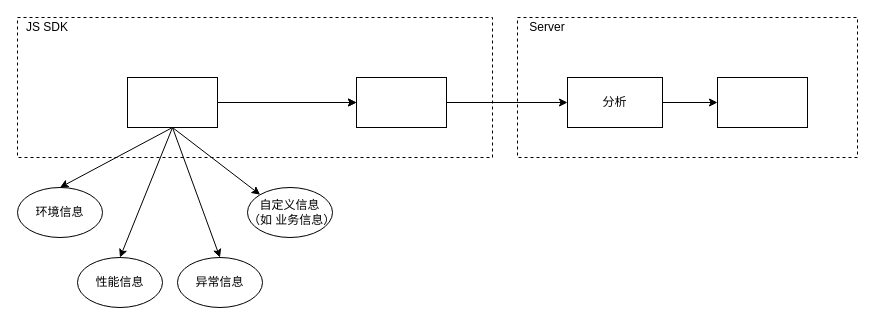
This 875x325 diagram has some shape labels left out. The shapes that lost their labels are listed below. From the top down, each one's centre as x and y in pixels, then its label:
(172,102): 采集
(401,102): 存储与上报
(762,102): 告警
